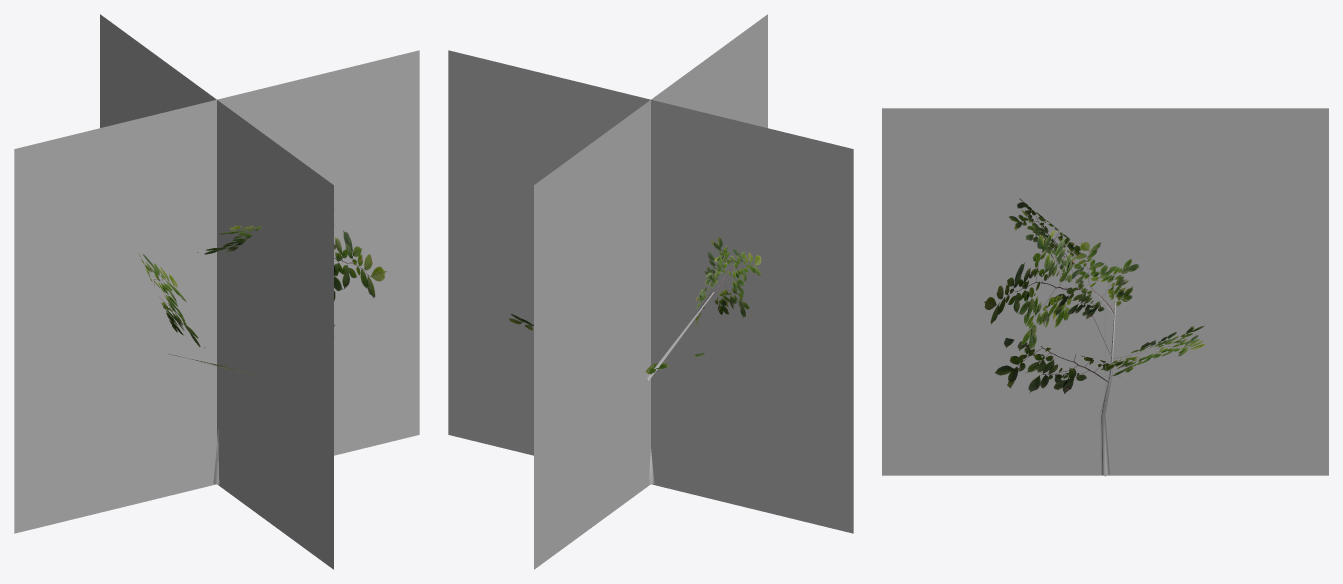
The model's file is Tree-Beech6A-mobile.fbx.
The picture shows the model from 3 angles, left to right: view 1: azimuth 30°, elevation 25°; view 2: azimuth 150°, elevation 25°; view 3: azimuth 270°, elevation 25°; orthographic projection. The views are drawn at different scales.
Parts seen in each view (by area): view 1: Billboard-BeechA, Tree-Beech6A-mobile_LOD0; view 2: Billboard-BeechA, Tree-Beech6A-mobile_LOD0; view 3: Billboard-BeechA, Tree-Beech6A-mobile_LOD0.
Boxes of the visible parts, <box> form: Billboard-BeechA: <box>14,14,419,569</box>; Tree-Beech6A-mobile_LOD0: <box>138,209,387,484</box>; Billboard-BeechA: <box>448,14,853,569</box>; Tree-Beech6A-mobile_LOD0: <box>509,236,761,484</box>; Billboard-BeechA: <box>882,108,1328,475</box>; Tree-Beech6A-mobile_LOD0: <box>984,198,1205,476</box>.
Size of what is drawn, in the model's own units: 905 by 820 by 905.
